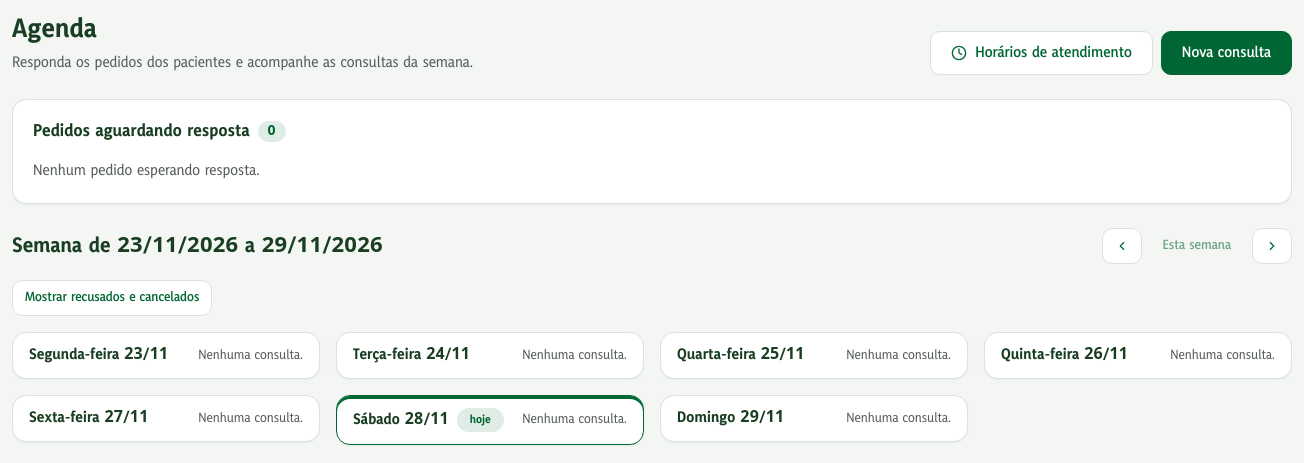
Scenario: AgendamentoPrescritor › no celular a agenda abre rolada ate o dia de hoje, uma vez so
Expected: the text "hoje" is shown, [457, 408, 504, 432]
// trocar de semana e voltar n puxa a tela de novo
Click the button named "Próxima semana": (1272, 246) [1252, 228, 1292, 264]
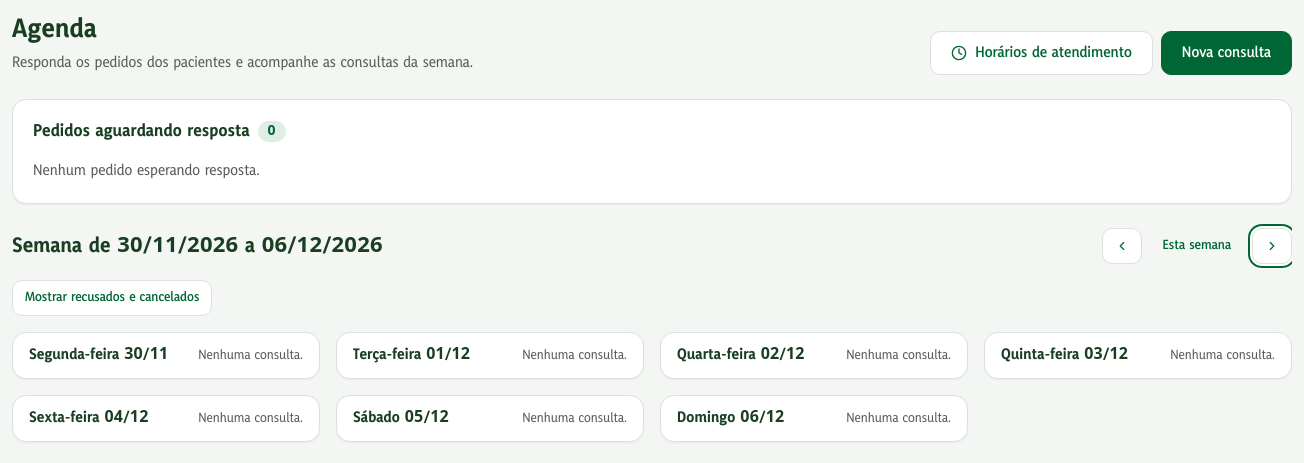
Click the button "Esta semana": (1197, 246) [1150, 228, 1244, 264]
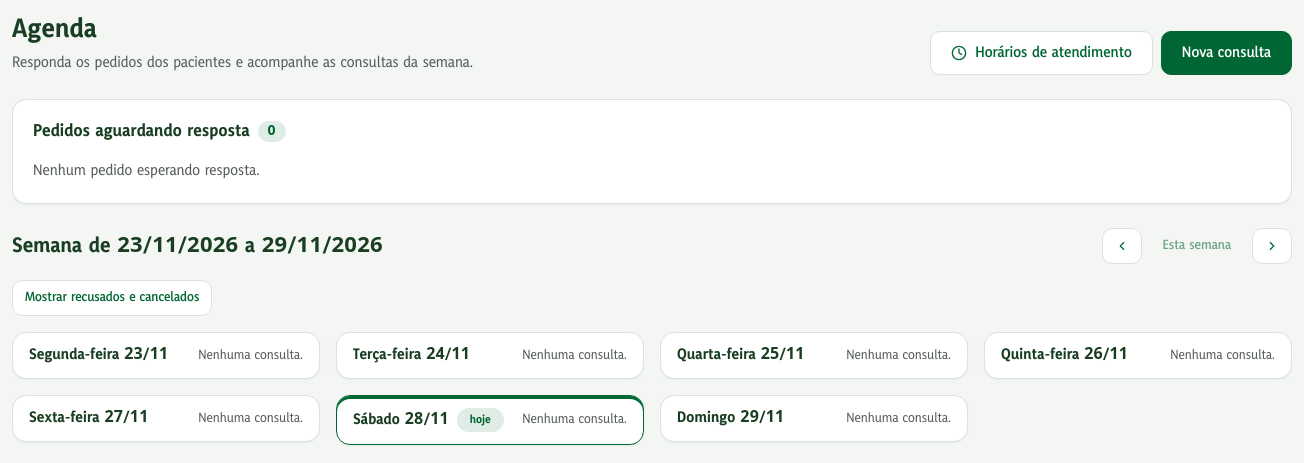
Now the text "hoje" is shown, box [457, 408, 504, 432]
